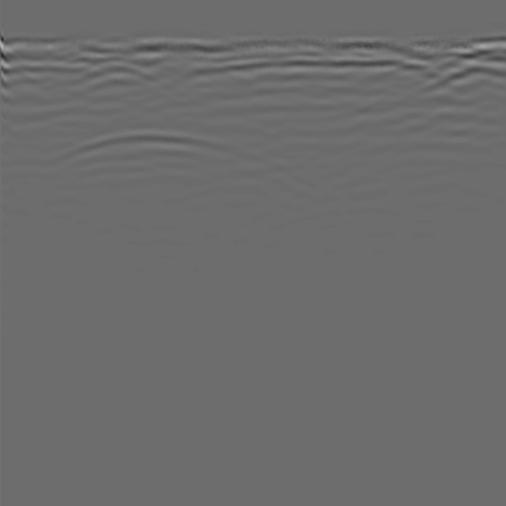hyperbola: (19, 112, 295, 206)
